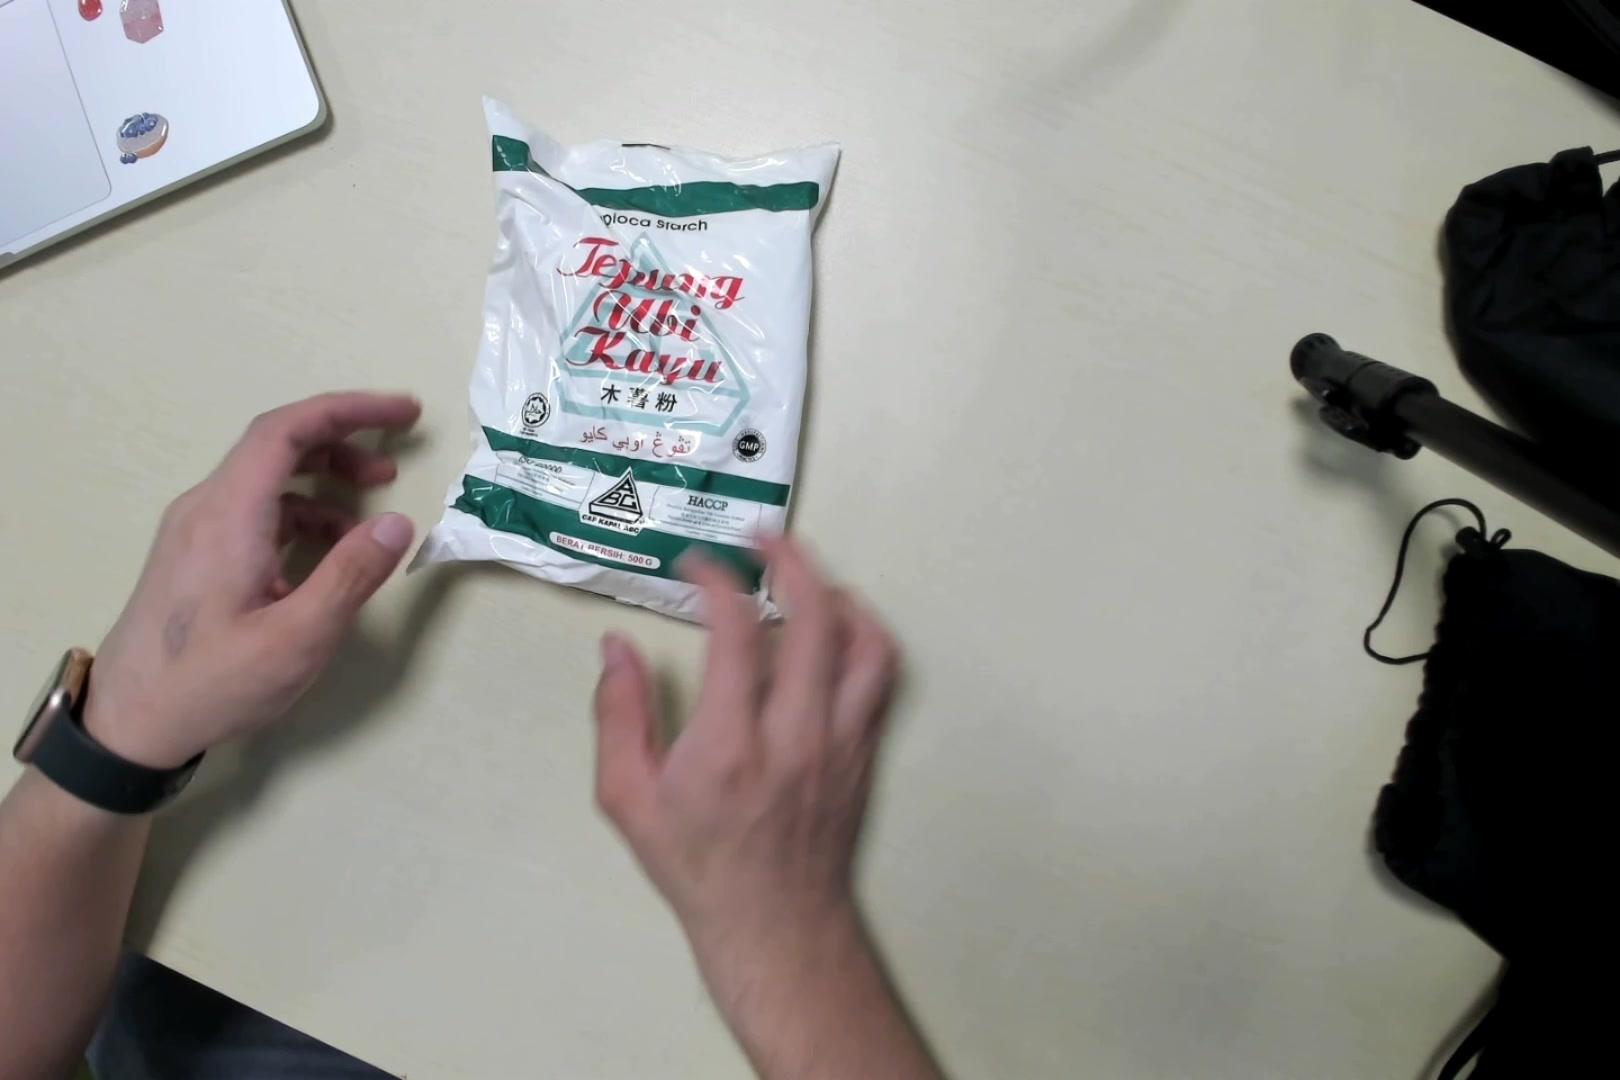Flour_500-599g_Halal_NonHealthy: (454, 124, 834, 648)
